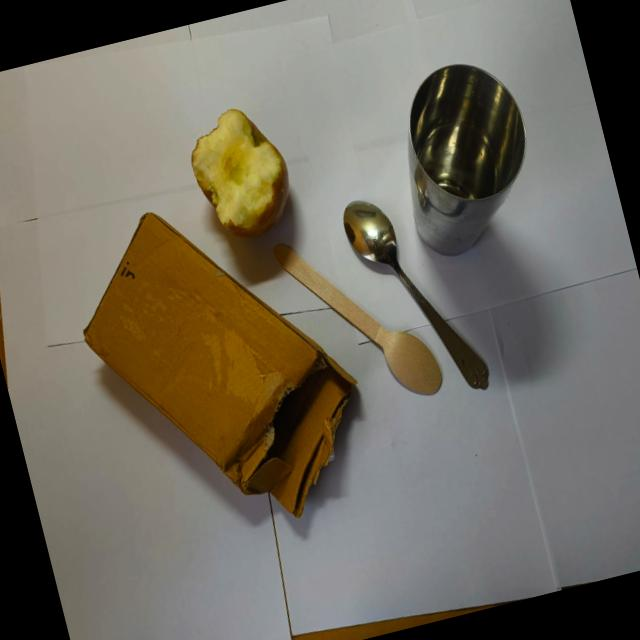Apple-Bio: (176, 93, 304, 248)
CardBoard-Bio: (54, 167, 388, 557)
Steel-NonBio: (376, 42, 554, 268), (337, 172, 496, 416)
Wooden Spoon-Bio: (252, 223, 463, 435)
